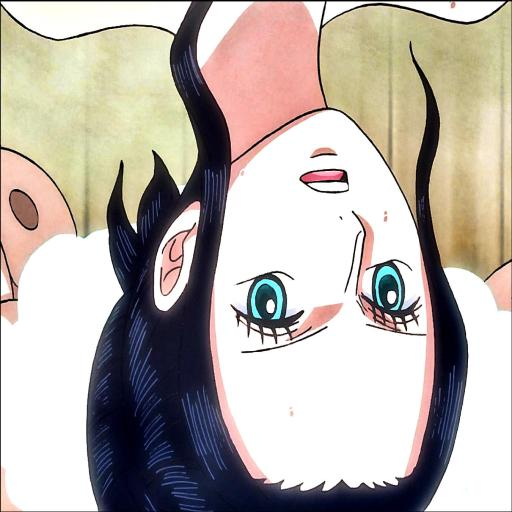NicoRobin: (1, 0, 508, 510)
